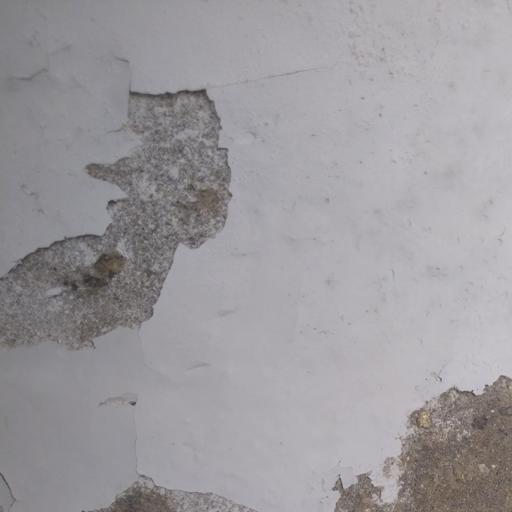peeling: (0, 44, 249, 376), (310, 355, 512, 512), (82, 453, 301, 512)
